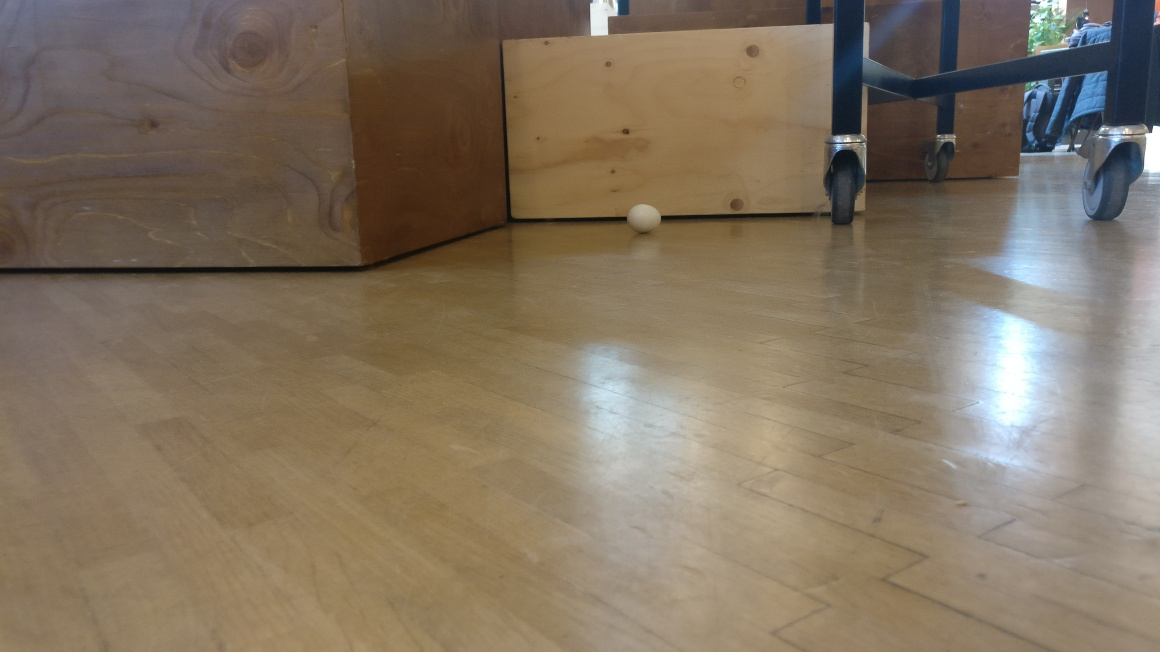egg: (625, 202, 662, 233)
